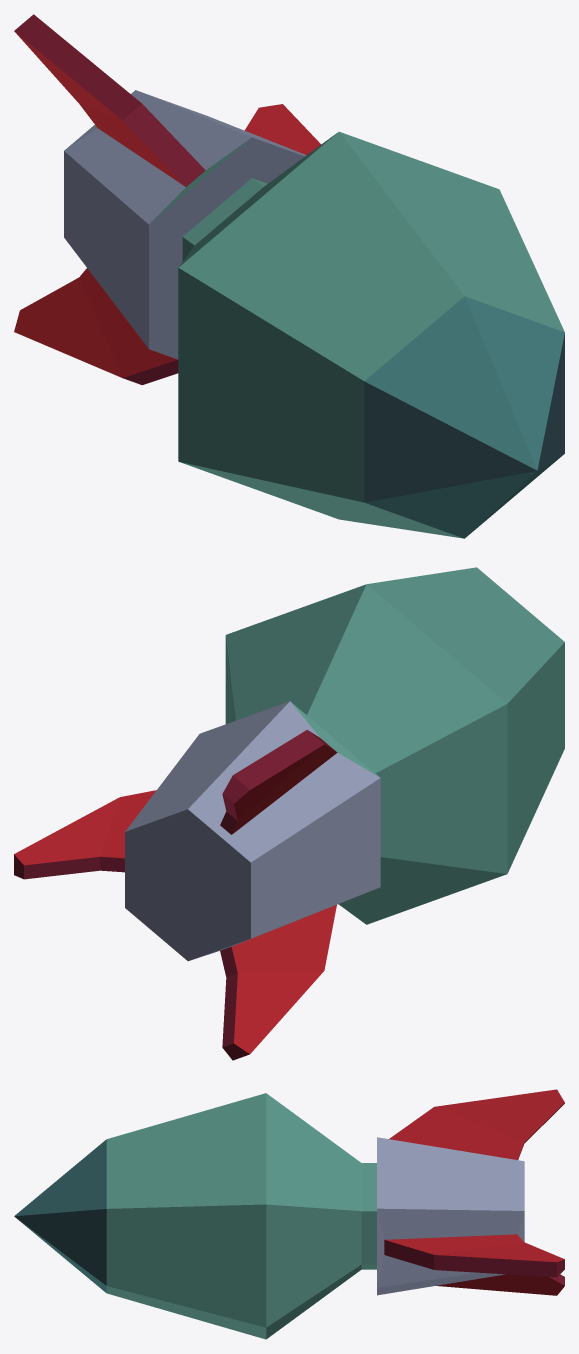
File: missle.glb
3 renders of one model, top to bottom at view 1: azimuth 30°, elevation 25°; view 2: azimuth 150°, elevation 25°; view 3: azimuth 270°, elevation 25°, orthographic. The views are drawn at different scales.
Parts seen in each view (by area): view 1: Cylinder.002; view 2: Cylinder.002; view 3: Cylinder.002.
Part boxes in pixels (left/top/right/bottom): Cylinder.002: left=14, top=14, right=564, bottom=538; Cylinder.002: left=14, top=567, right=564, bottom=1060; Cylinder.002: left=14, top=1089, right=564, bottom=1339.
Bounding box in the file's own units: 0.3062 × 0.3407 × 0.6901.
Materials: 1 (1 with a texture image).
